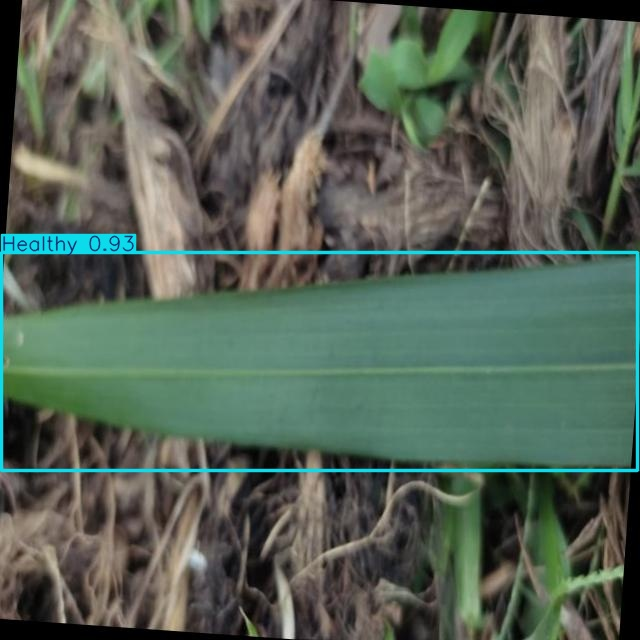Healthy: (2, 253, 638, 470)
